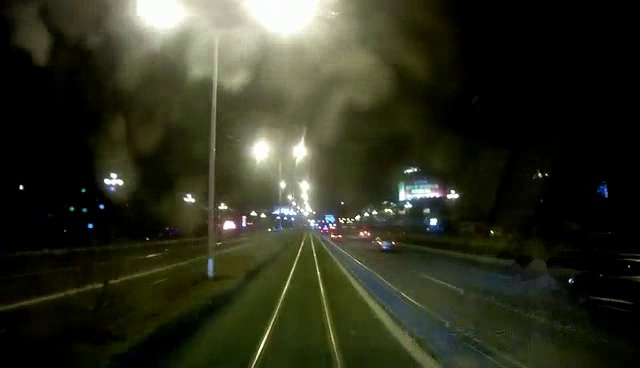car: (372, 234, 403, 251)
